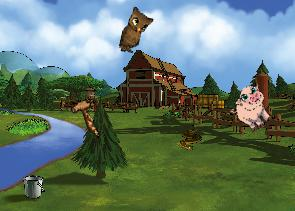eagle: (56, 86, 114, 139)
owl: (118, 5, 155, 57)
pig: (225, 80, 280, 136)
